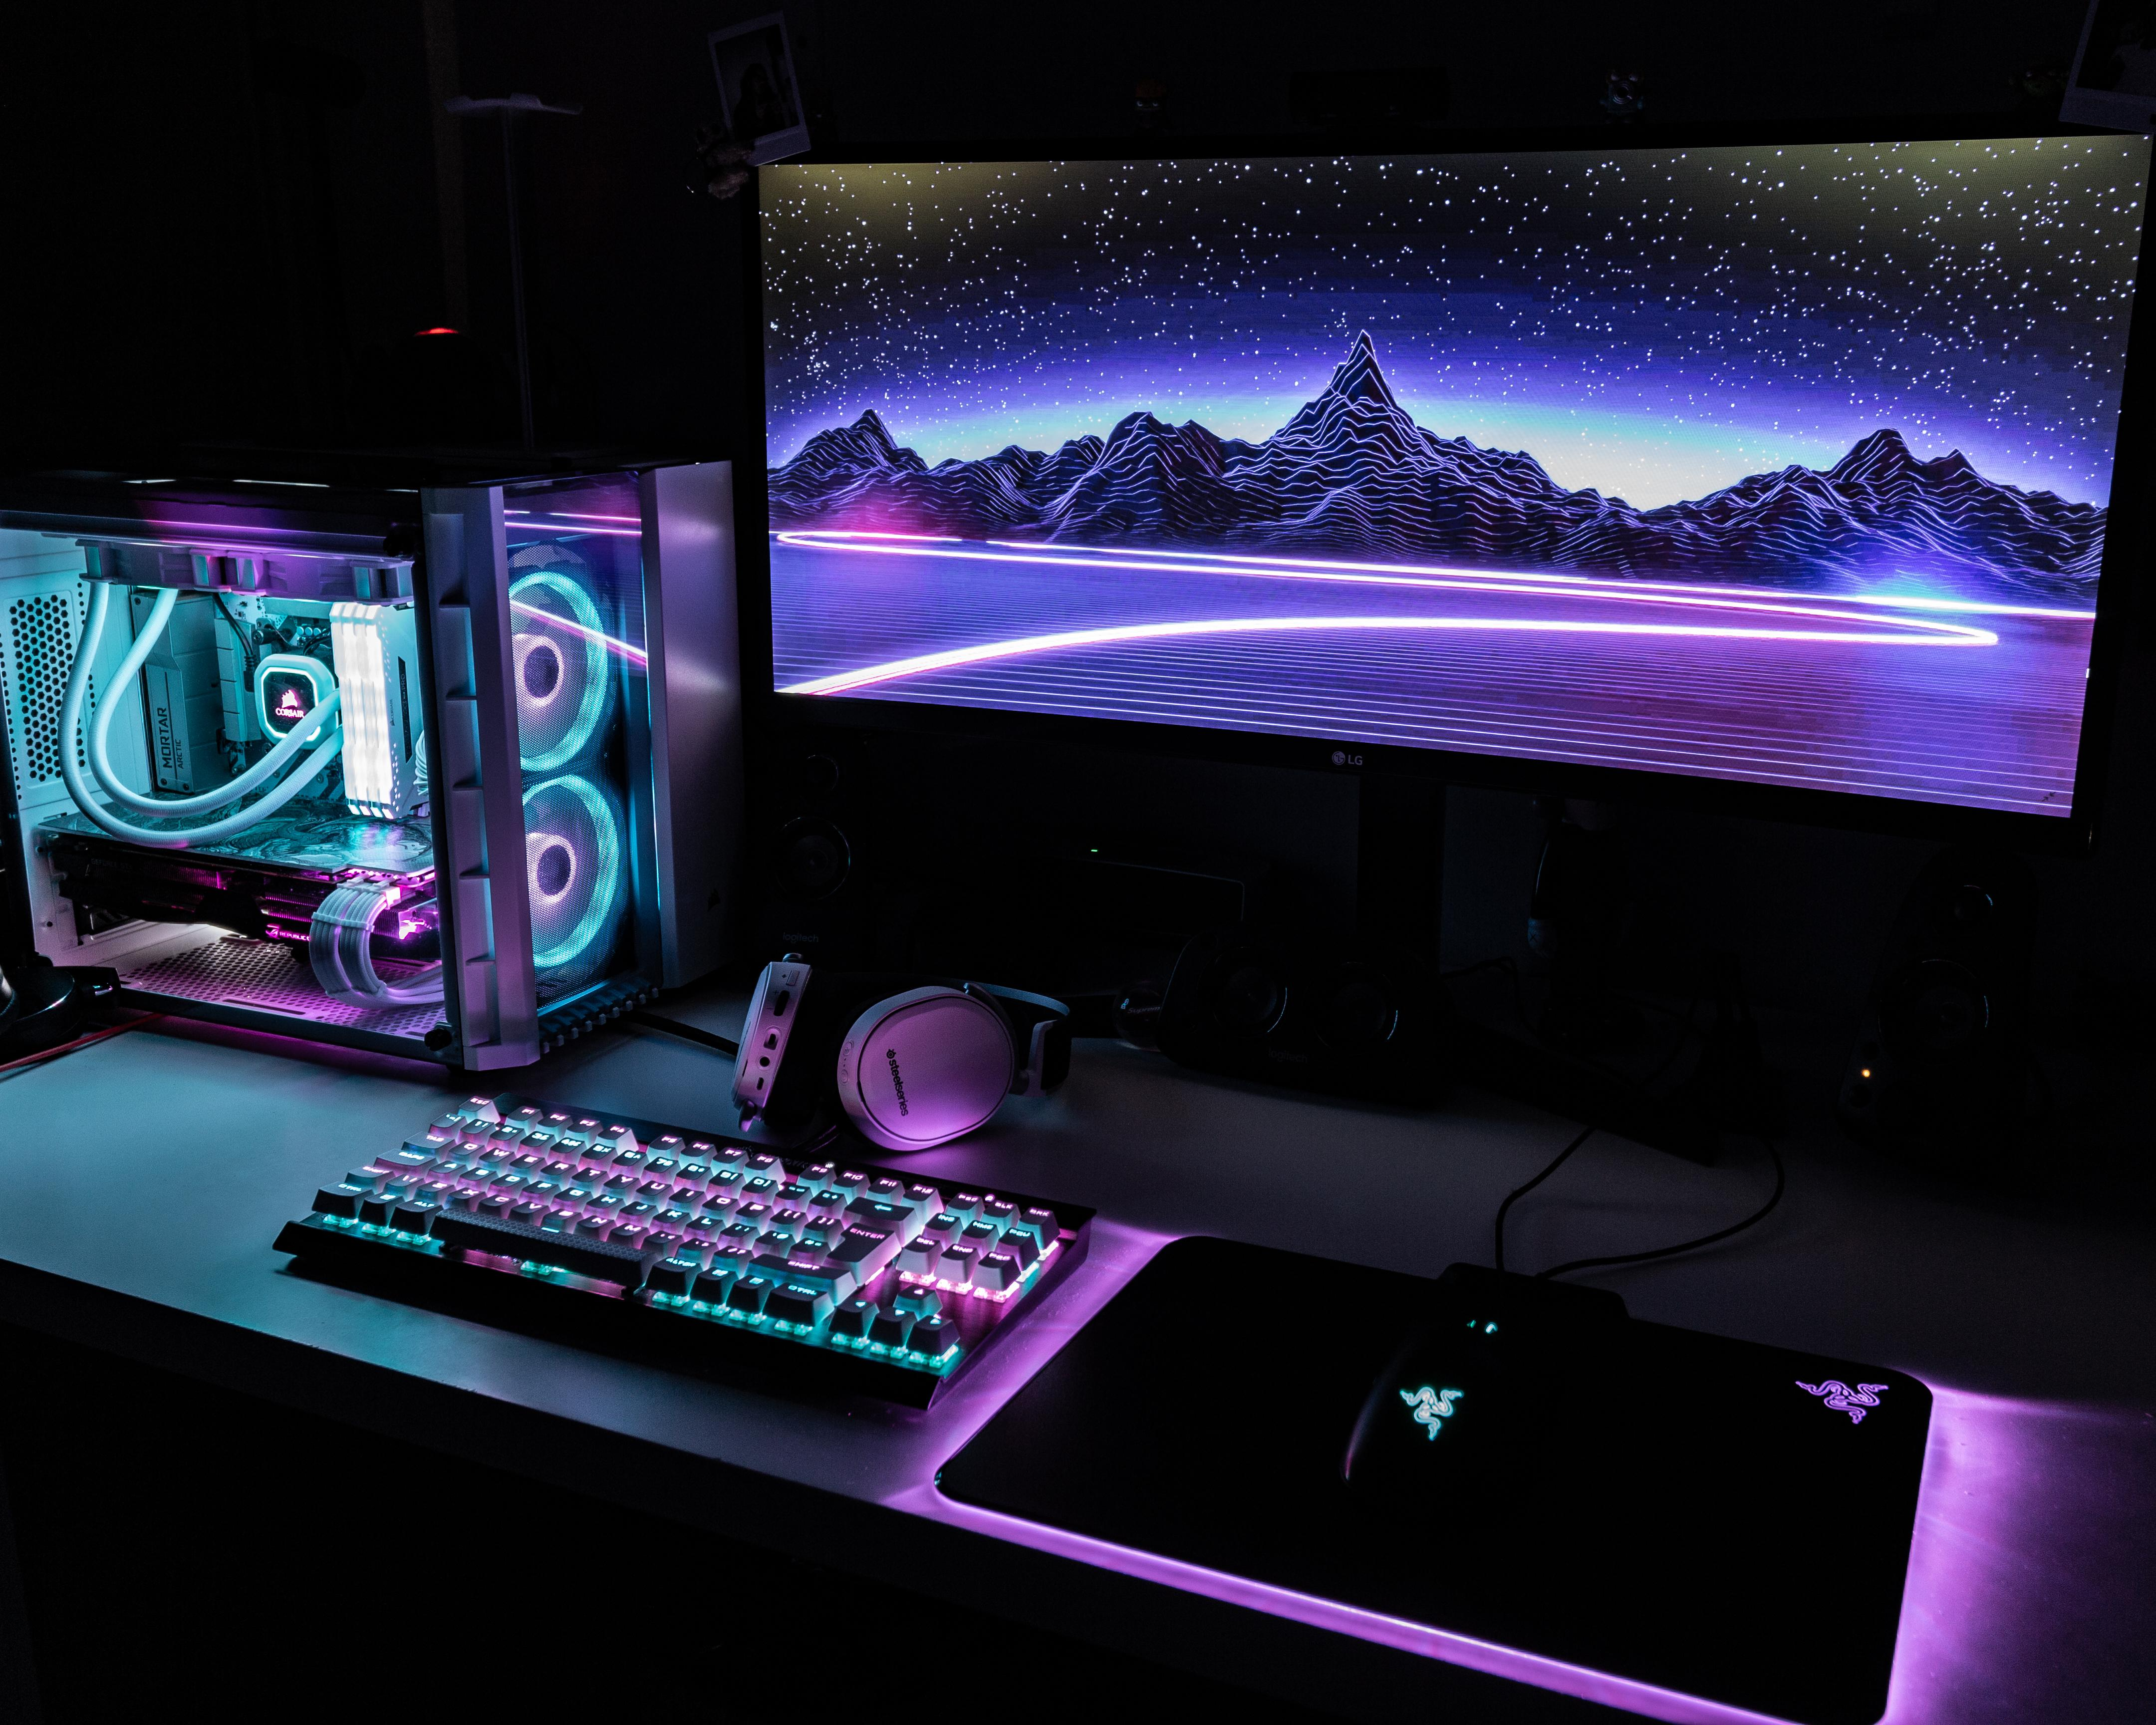Desktop (Generic): (0, 426, 766, 1084)
Headphones: (734, 958, 1074, 1167)
Keyboard (Gaming): (264, 1075, 1098, 1420)
Monitor (Landscape): (753, 136, 2156, 845)
Mouse (Gaming): (1334, 1262, 1630, 1491)
Mousepad (Gaming): (933, 1232, 1934, 1725)
